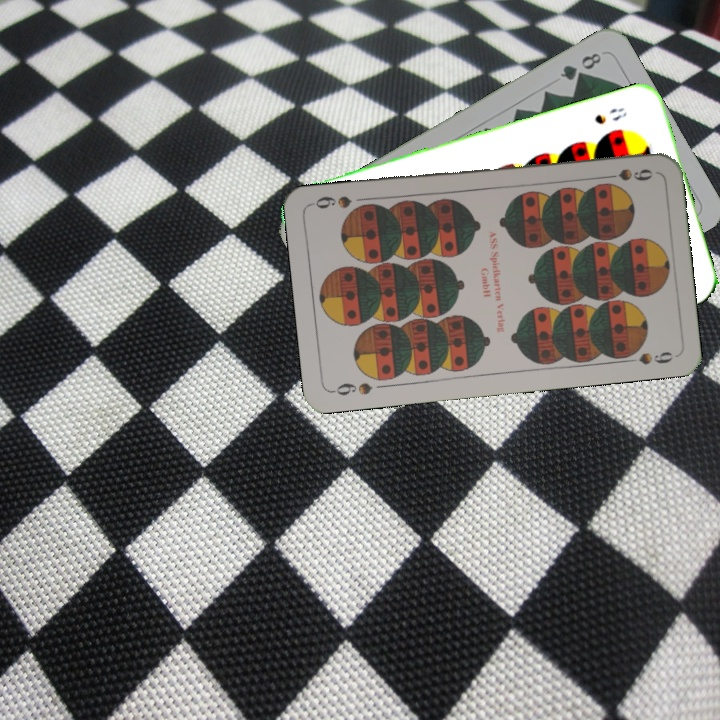G8: (556, 48, 604, 83)
S8: (590, 103, 629, 127)
S9: (597, 164, 655, 184), (328, 378, 375, 398)
